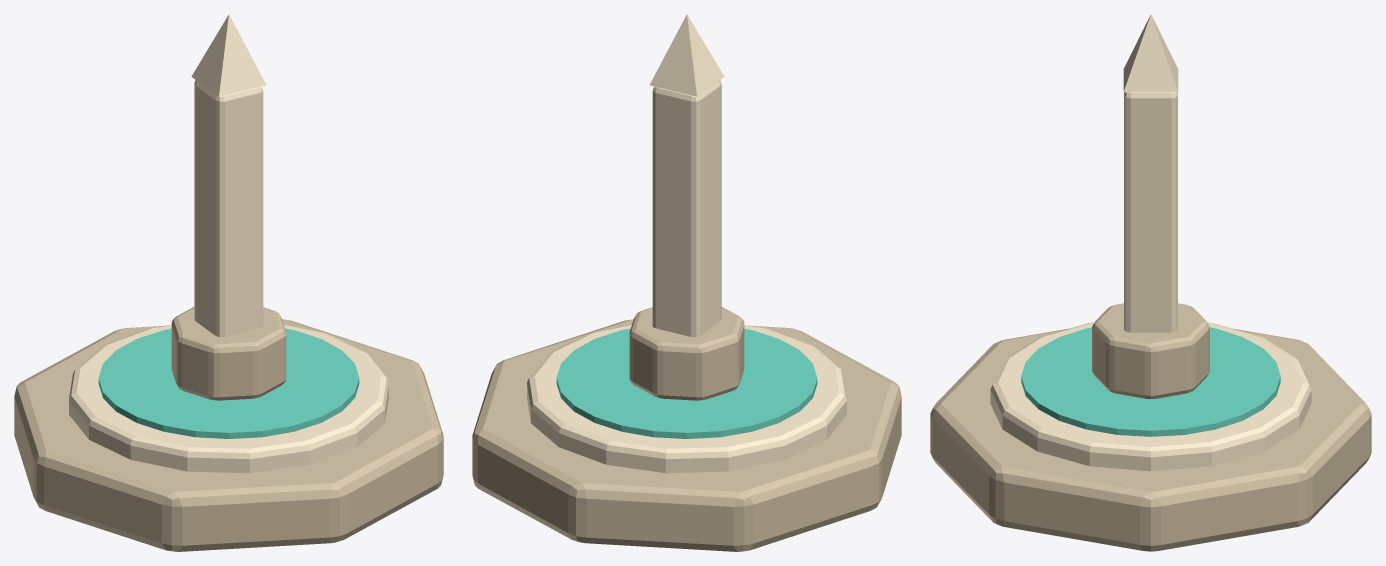
The model's file is plaza-landmark.glb.
The picture shows the model from 3 angles, left to right: view 1: azimuth 30°, elevation 25°; view 2: azimuth 150°, elevation 25°; view 3: azimuth 270°, elevation 25°; orthographic projection.
Visible parts, largest first — view 1: OctagonalPlinth, Obelisk, WaterSurface, WaterBasin, ObeliskBase, Cone; view 2: OctagonalPlinth, Obelisk, WaterSurface, WaterBasin, ObeliskBase, Cone; view 3: OctagonalPlinth, WaterSurface, WaterBasin, Obelisk, ObeliskBase, Cone.
Boxes of the visible parts, x1,y1,x2,y2 form: OctagonalPlinth: [14, 319, 443, 551]; Obelisk: [194, 80, 263, 337]; WaterSurface: [98, 328, 359, 438]; WaterBasin: [69, 324, 388, 473]; ObeliskBase: [171, 307, 286, 400]; Cone: [191, 14, 266, 96]; OctagonalPlinth: [472, 319, 901, 551]; Obelisk: [652, 80, 721, 337]; WaterSurface: [556, 328, 817, 438]; WaterBasin: [527, 324, 846, 473]; ObeliskBase: [629, 307, 744, 400]; Cone: [649, 14, 724, 96]; OctagonalPlinth: [930, 328, 1371, 551]; WaterSurface: [1021, 327, 1280, 436]; WaterBasin: [990, 322, 1311, 471]; Obelisk: [1124, 92, 1177, 332]; ObeliskBase: [1092, 303, 1209, 399]; Cone: [1123, 14, 1178, 92].
Size of the model in its own units: 2.28 by 2.56 by 2.28.
